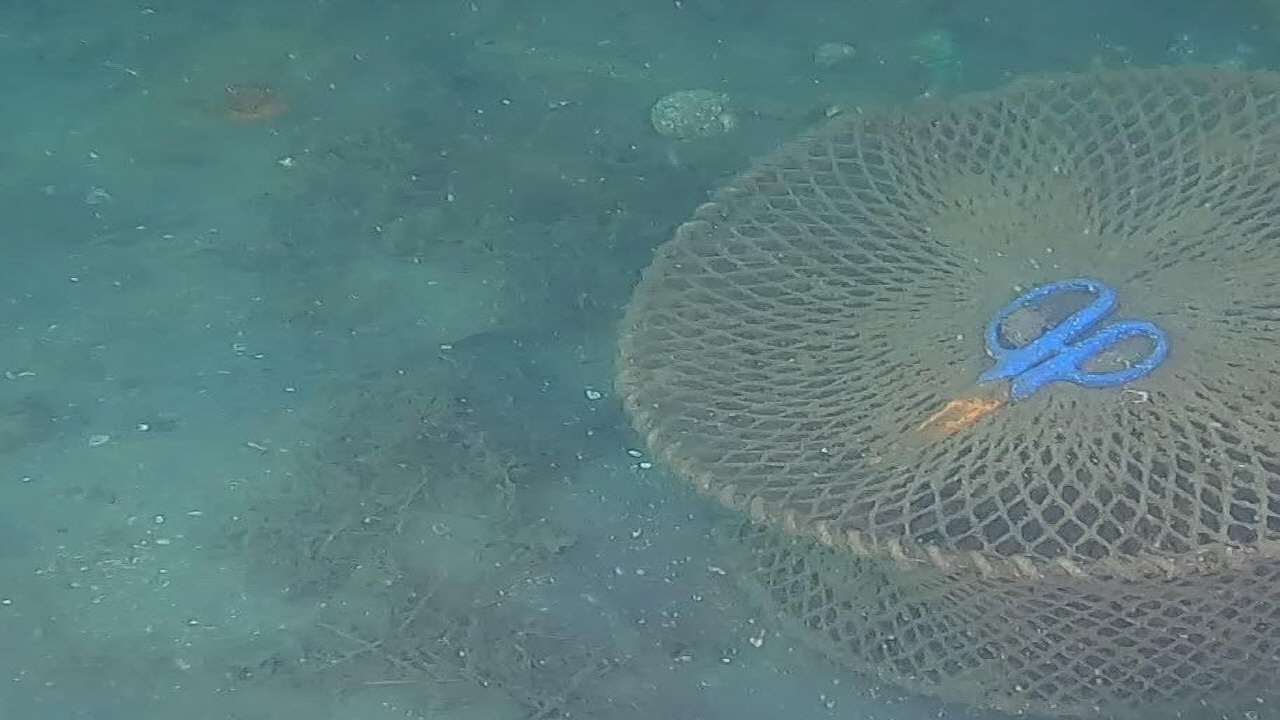circular fish trap: (615, 64, 1280, 720)
